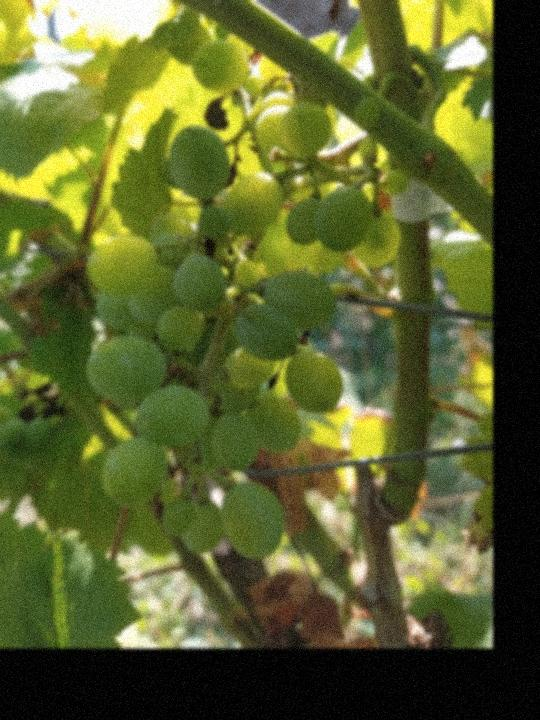grape: (83, 21, 403, 564)
